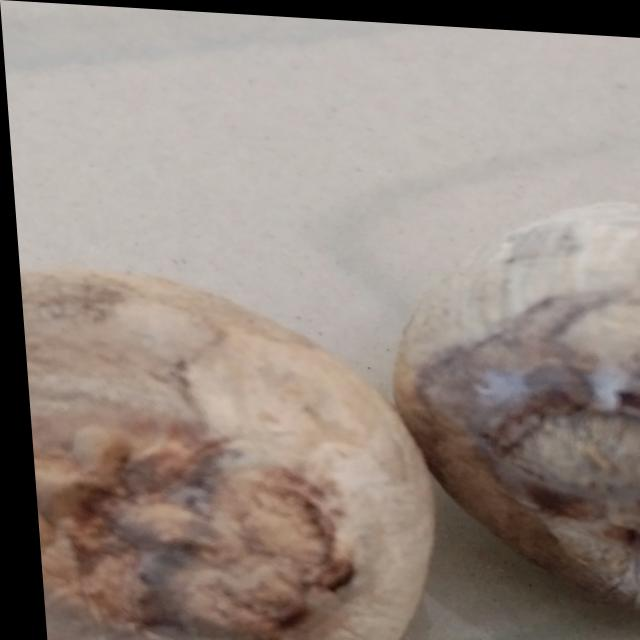phatora: (15, 258, 438, 640), (392, 165, 640, 611)
